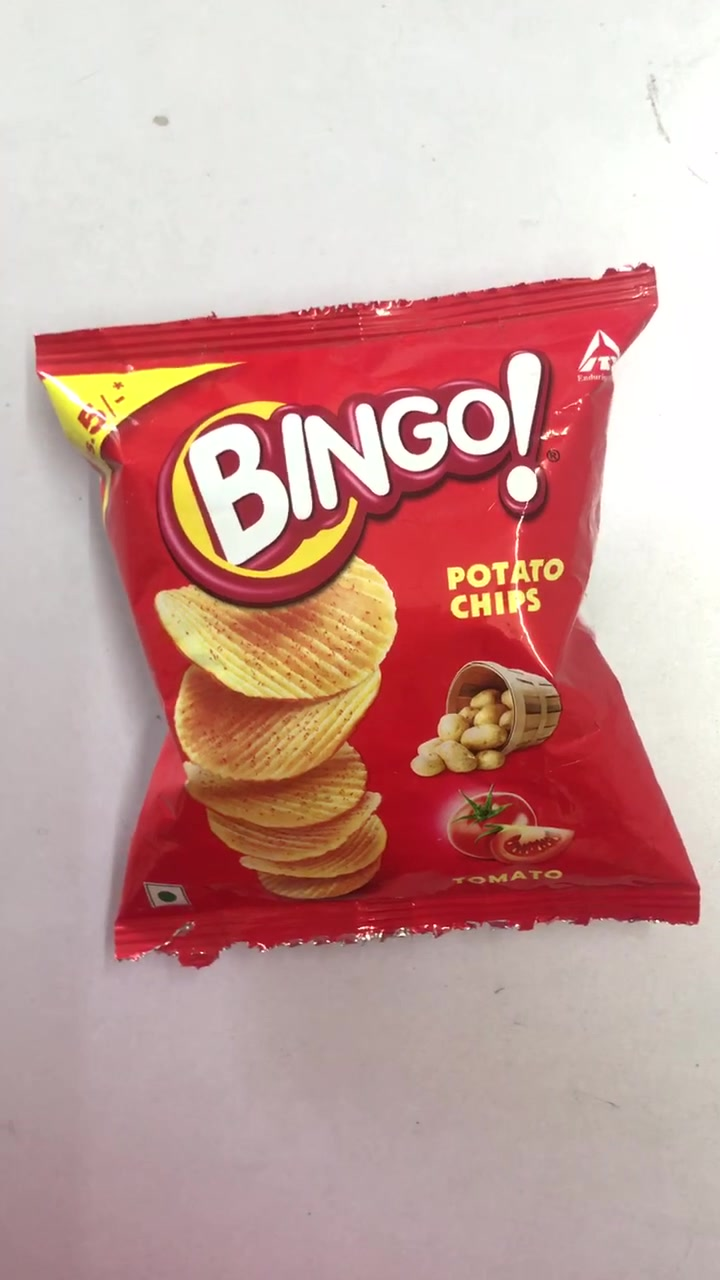Bingo: (38, 285, 717, 939)
